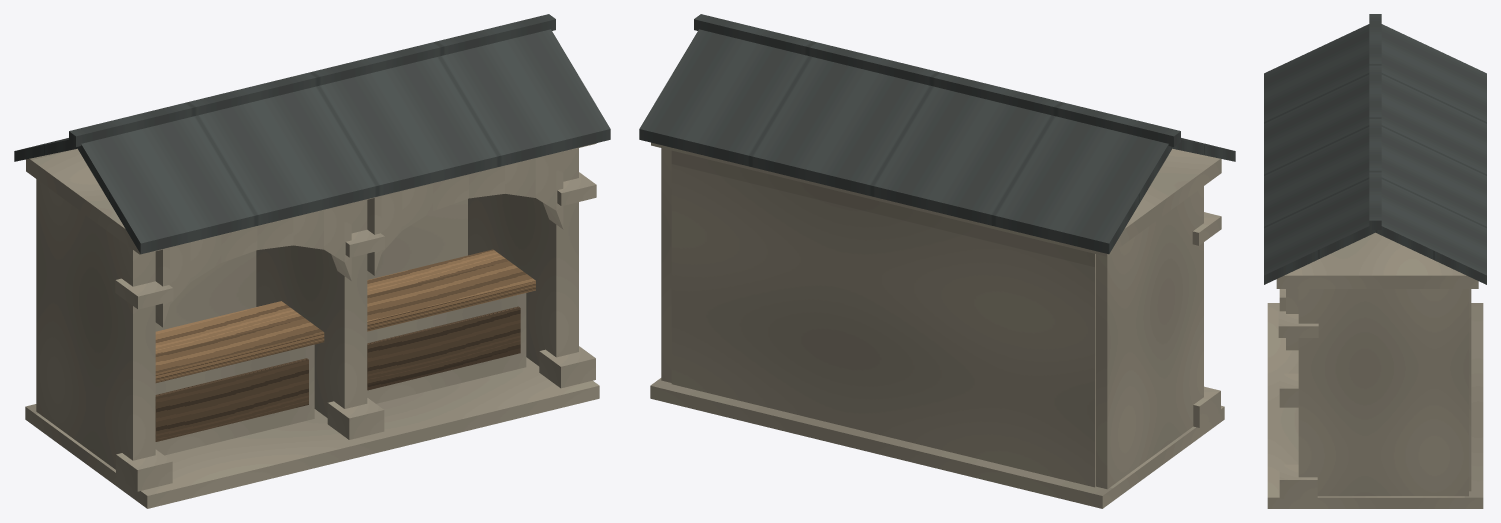
3 renders of one model, left to right at view 1: azimuth 30°, elevation 25°; view 2: azimuth 150°, elevation 25°; view 3: azimuth 270°, elevation 25°, orthographic. The views are drawn at different scales.
Parts seen in each view (by area): view 1: harare; view 2: harare; view 3: harare.
Part boxes in pixels (bbox=[...]): harare: bbox=[14, 14, 610, 508]; harare: bbox=[639, 14, 1235, 508]; harare: bbox=[1264, 14, 1486, 508].
Bounding box in the file's own units: 3.76 × 2.5 × 1.72.
Materials: 1 (1 with a texture image).
